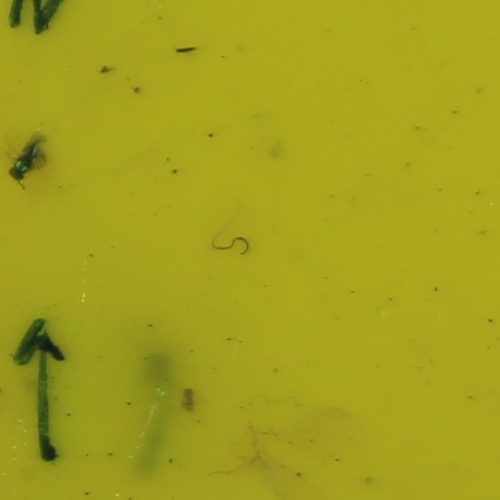Psyllaephagus: (10, 136, 47, 179)
